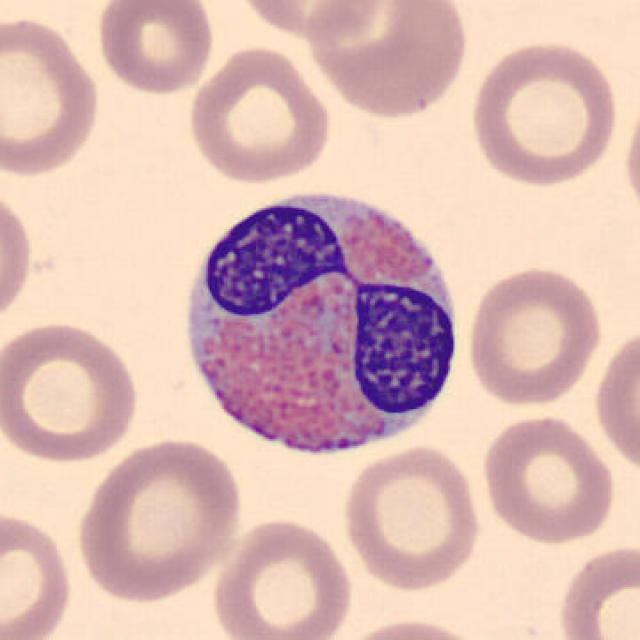Eosinophil: (167, 171, 471, 478)
RBC: (71, 433, 245, 604), (464, 37, 622, 190), (183, 42, 334, 187), (338, 441, 483, 592), (0, 318, 144, 466), (462, 261, 604, 407), (304, 0, 473, 122), (476, 411, 618, 546), (208, 515, 356, 640), (0, 10, 105, 182), (92, 0, 217, 99), (0, 506, 76, 640), (553, 541, 640, 640), (590, 323, 638, 481), (227, 0, 389, 42), (0, 185, 36, 333), (332, 613, 488, 640), (620, 81, 640, 226)
